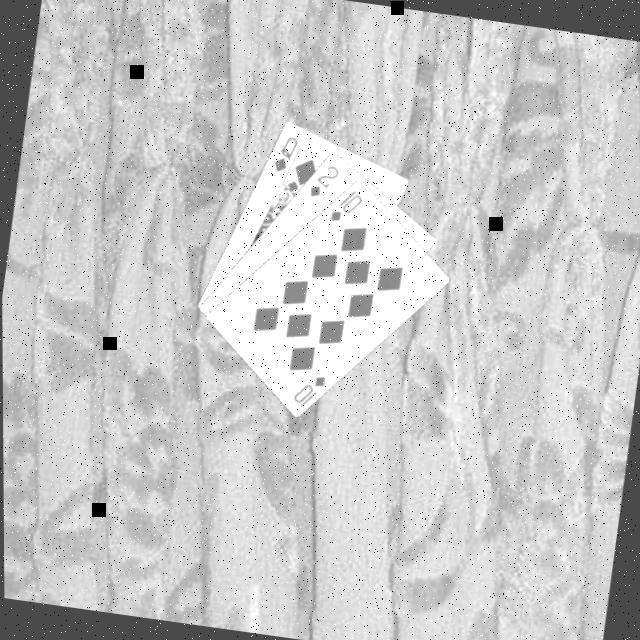10D: (325, 182, 366, 228), (287, 367, 328, 412)
2D: (304, 158, 342, 202)
QD: (268, 130, 300, 177)
